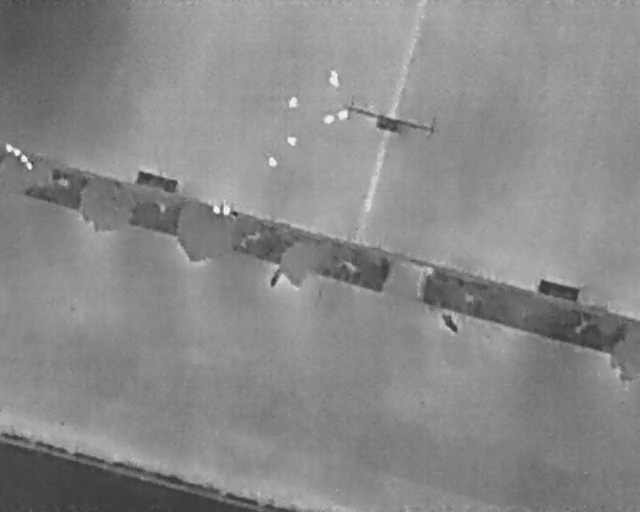Car: (329, 70, 340, 88), (337, 109, 349, 121), (322, 113, 335, 124), (288, 96, 299, 108), (287, 136, 298, 147), (268, 156, 277, 167)
